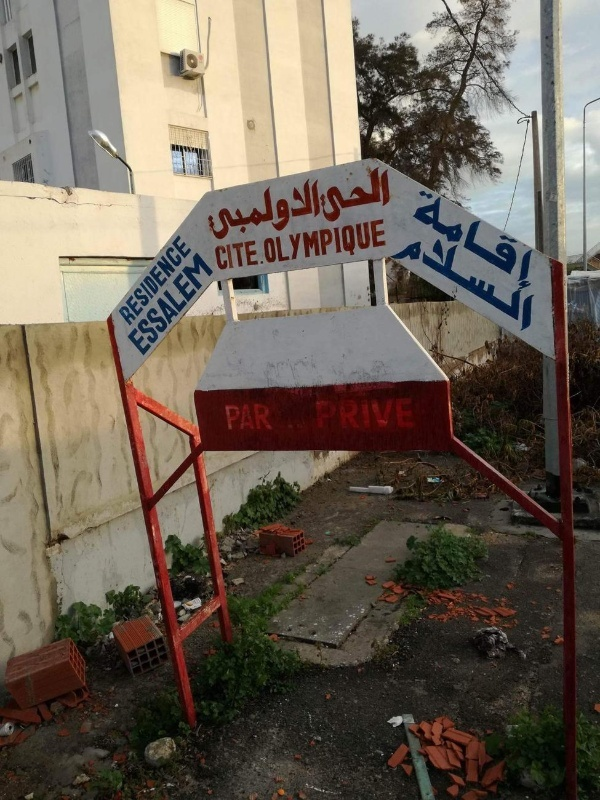text: (529, 185, 545, 293), (433, 185, 448, 293), (449, 185, 464, 293), (465, 185, 480, 293), (481, 185, 496, 293), (497, 185, 512, 293), (513, 185, 528, 293), (129, 250, 144, 357), (145, 250, 160, 357), (161, 250, 176, 357), (177, 250, 192, 357), (193, 250, 208, 357), (449, 231, 464, 337), (465, 231, 480, 337), (481, 231, 496, 337), (497, 231, 512, 337), (513, 231, 528, 337), (177, 232, 193, 328), (129, 232, 144, 328), (145, 232, 160, 328), (161, 232, 176, 328), (420, 185, 432, 293), (436, 231, 448, 337), (305, 175, 321, 244), (117, 232, 128, 328), (209, 175, 224, 244), (225, 175, 240, 244), (241, 175, 256, 244), (257, 175, 272, 244), (273, 175, 288, 244), (289, 175, 304, 244), (529, 231, 538, 337), (337, 167, 352, 225), (353, 167, 368, 225), (369, 167, 384, 225), (209, 250, 217, 357), (322, 167, 336, 225), (225, 218, 240, 271), (241, 218, 256, 271), (257, 218, 272, 271), (273, 218, 288, 271), (289, 218, 304, 271), (305, 218, 320, 271), (321, 218, 336, 271), (337, 218, 352, 271), (353, 218, 368, 271), (369, 218, 384, 271), (215, 218, 224, 271), (321, 399, 336, 430), (337, 399, 352, 430), (353, 399, 368, 430), (369, 399, 384, 430), (385, 399, 400, 430), (257, 402, 273, 431), (225, 402, 240, 431), (241, 402, 256, 431), (401, 399, 415, 430), (202, 175, 208, 244), (385, 167, 392, 225), (316, 399, 320, 430), (127, 250, 128, 357), (385, 218, 387, 271)
